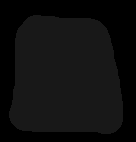fp: (8, 12, 123, 136)
